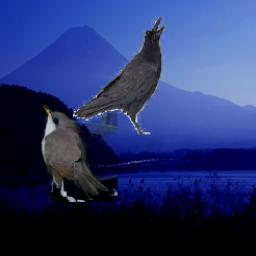Crow: (74, 16, 167, 135)
Cuckoo: (39, 103, 118, 202)
